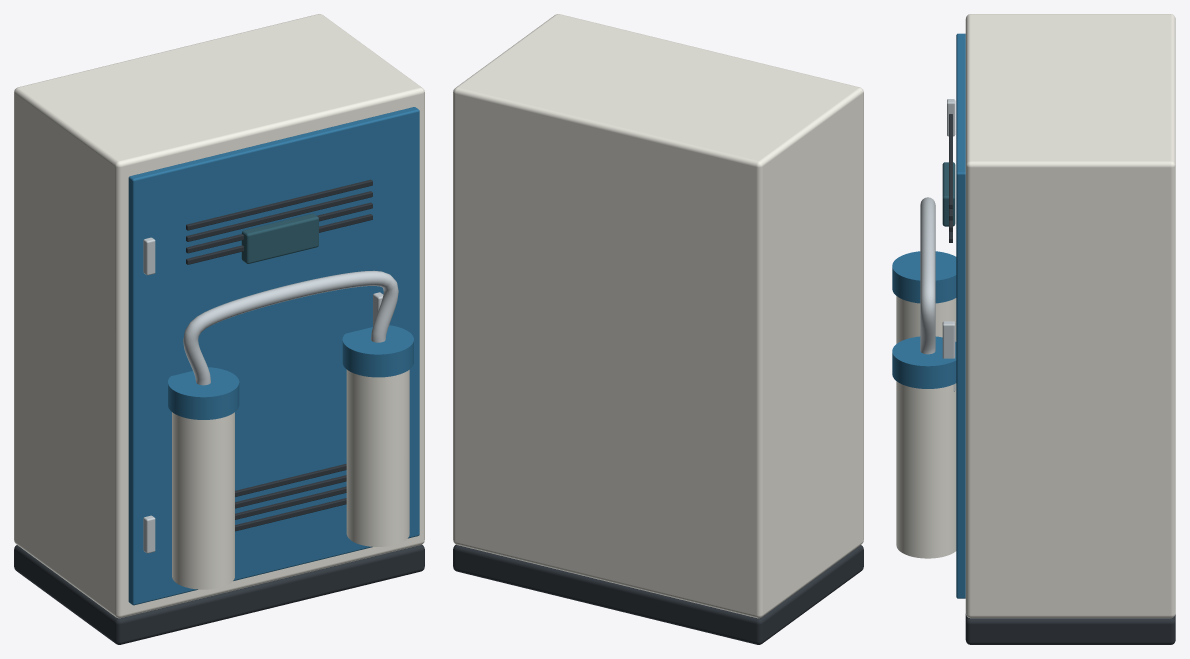
Rendered from curling-club-and-ice-maintenance-water-filtration-cabi-fa6216d6__31295.glb.
The picture shows the model from 3 angles, left to right: view 1: azimuth 30°, elevation 25°; view 2: azimuth 150°, elevation 25°; view 3: azimuth 270°, elevation 25°; orthographic projection.
Visible parts, largest first — view 1: water-filtration-cabinet; view 2: water-filtration-cabinet; view 3: water-filtration-cabinet.
Boxes of the visible parts, x1,y1,x2,y2 form: water-filtration-cabinet: (14,14,424,644); water-filtration-cabinet: (453,14,863,644); water-filtration-cabinet: (892,14,1175,644).
Size of the model in its own units: 0.8501 by 1.27 by 0.675.
